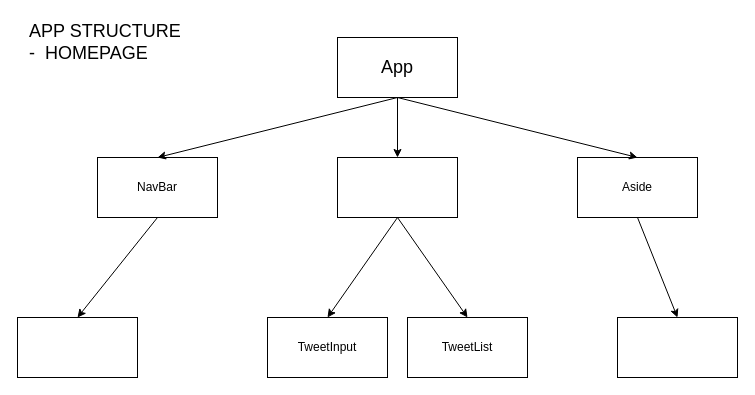
Some shapes in this 755 by 395 pixel diagram are drawn without their labels. The shapes that lost their labels are listed below. From the top down, each one's box as (x1, y1, x2, y2) in pixels, then its label:
(336, 156, 458, 218): Main
(16, 316, 138, 378): NavButton
(616, 316, 738, 378): LogIn
